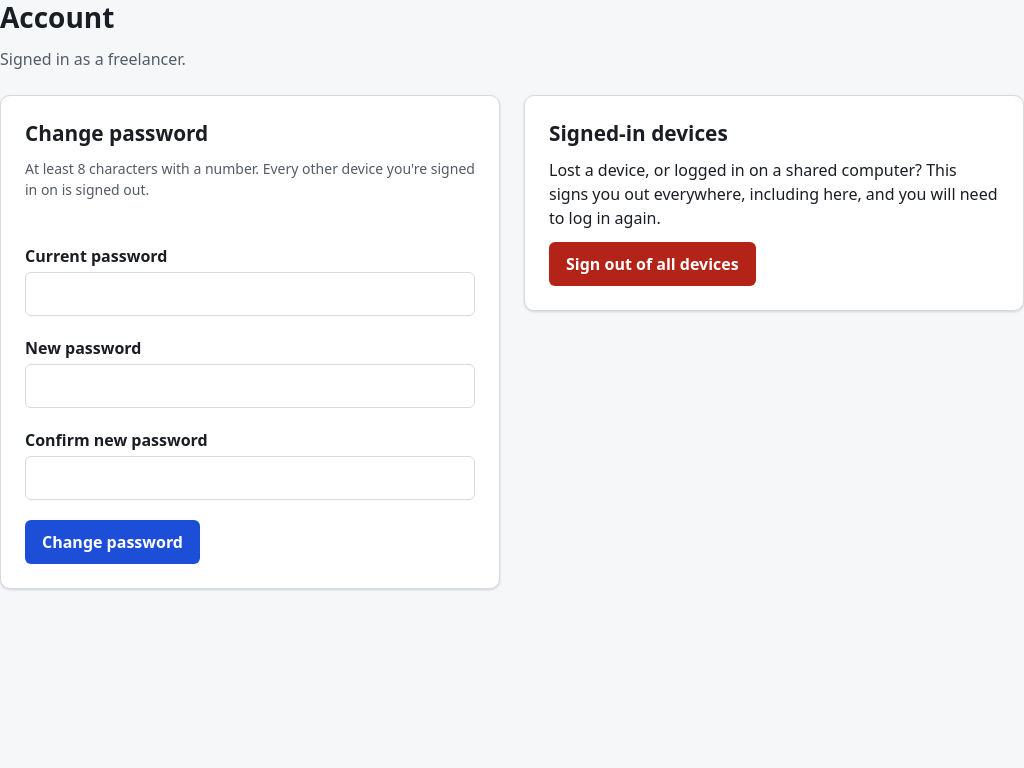
Test: Account page - sign out of all devices › asks for confirmation first, and cancel does nothing
Click the button "Sign out of all devices". click: point(652, 264)
box: [549, 242, 756, 286]
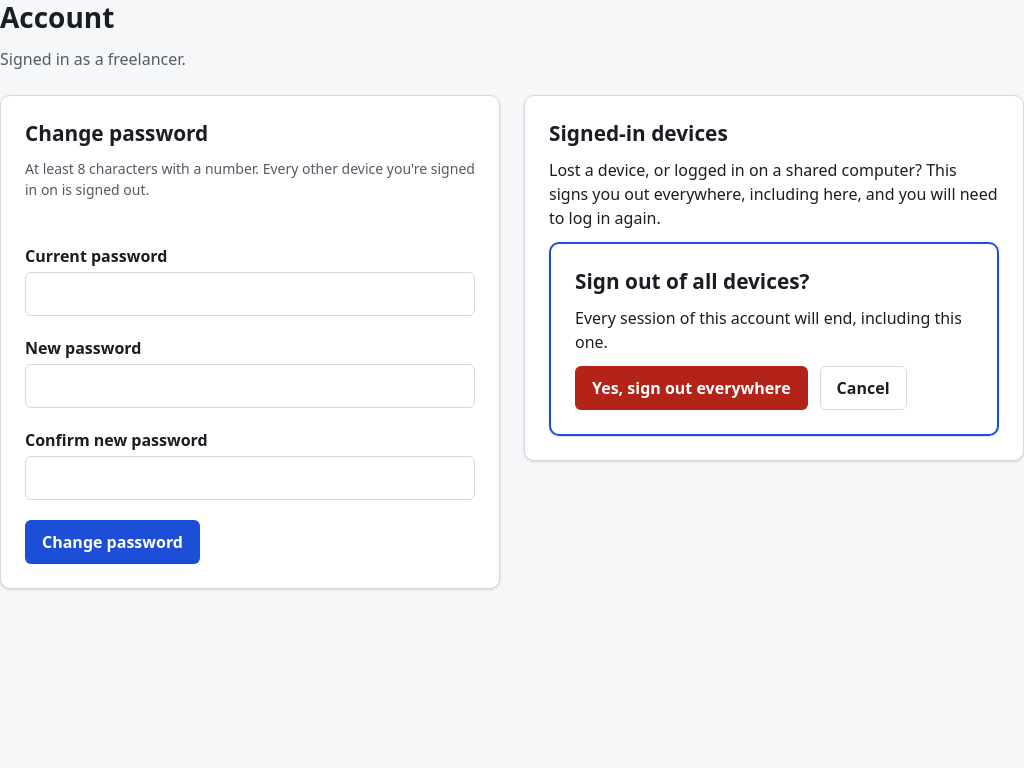
Click the button "Cancel". click: point(863, 388)
box: [820, 366, 906, 410]
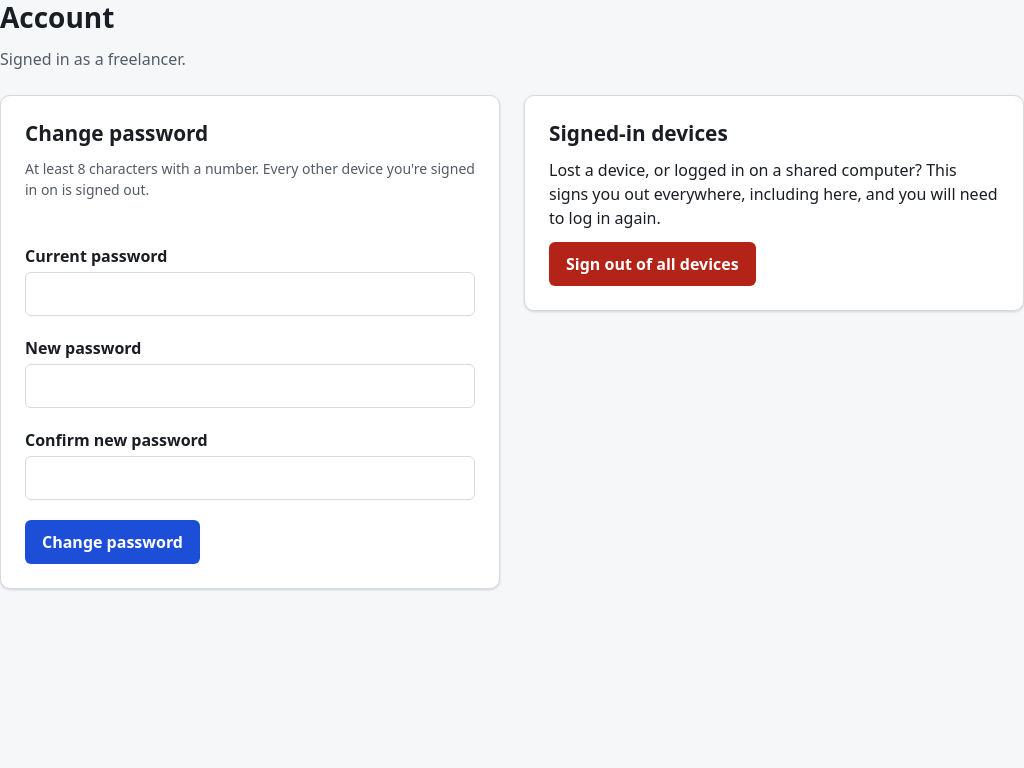
Result: the dialog is gone
